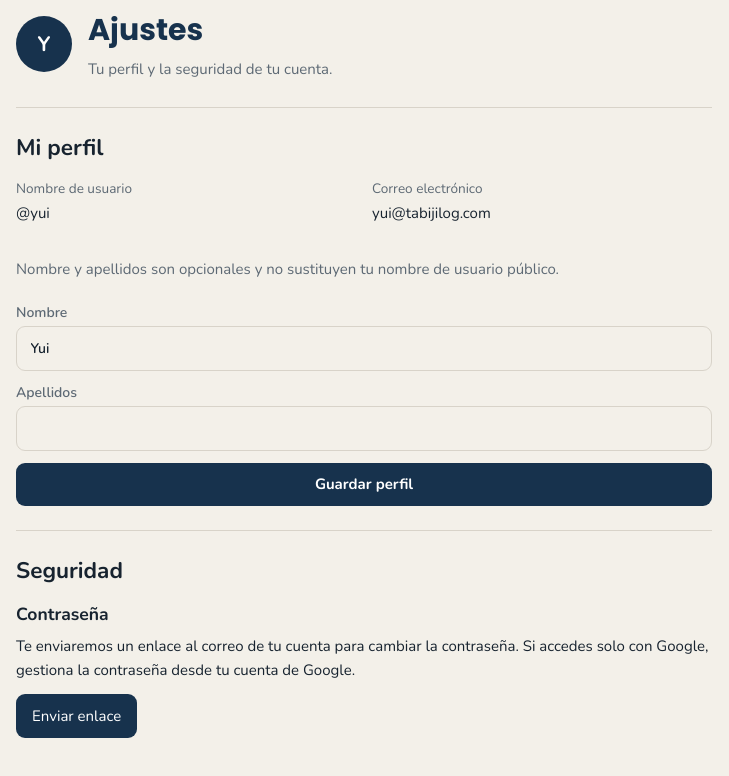
it: requests a password reset for the signed-in account and prevents repeat sends
Click the button "Enviar enlace": x=77, y=716 [16, 694, 137, 738]
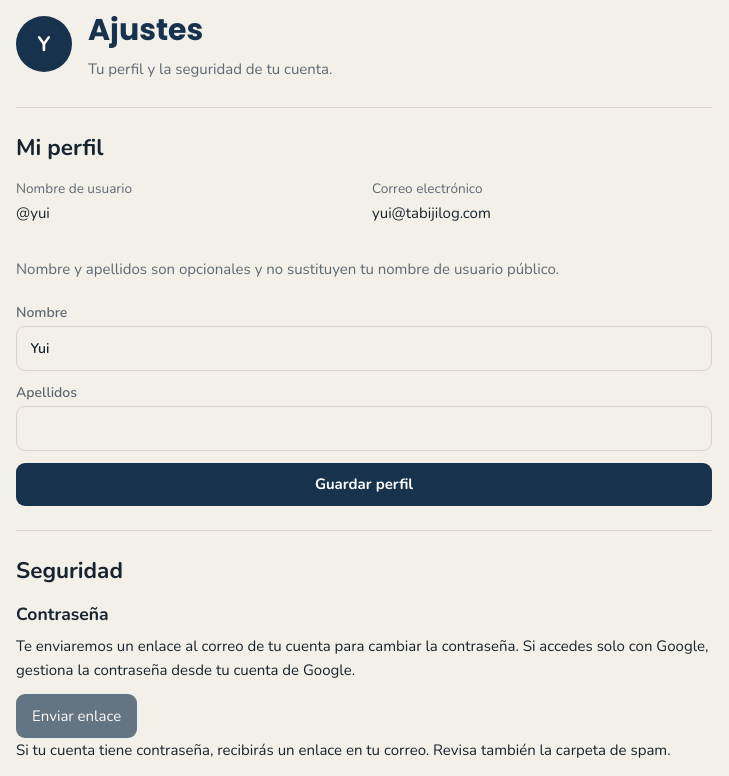
Result: the text "Si tu cuenta tiene contraseña, recibirás" is shown at [16, 740, 671, 760]
Result: the button "Enviar enlace" is disabled at [16, 694, 137, 738]
